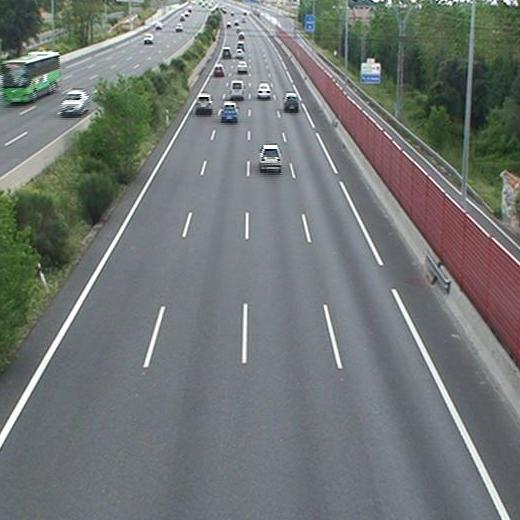car: (260, 146, 281, 169), (221, 103, 239, 121), (195, 94, 213, 110), (284, 93, 299, 109), (257, 84, 271, 97), (234, 48, 245, 61), (212, 65, 224, 75), (237, 61, 247, 71), (222, 48, 231, 56)
van: (231, 81, 243, 98)
